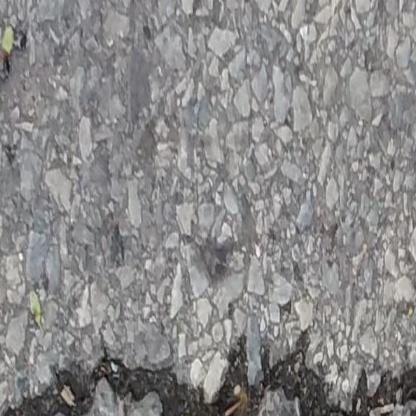Cracks: (0, 345, 416, 416)
